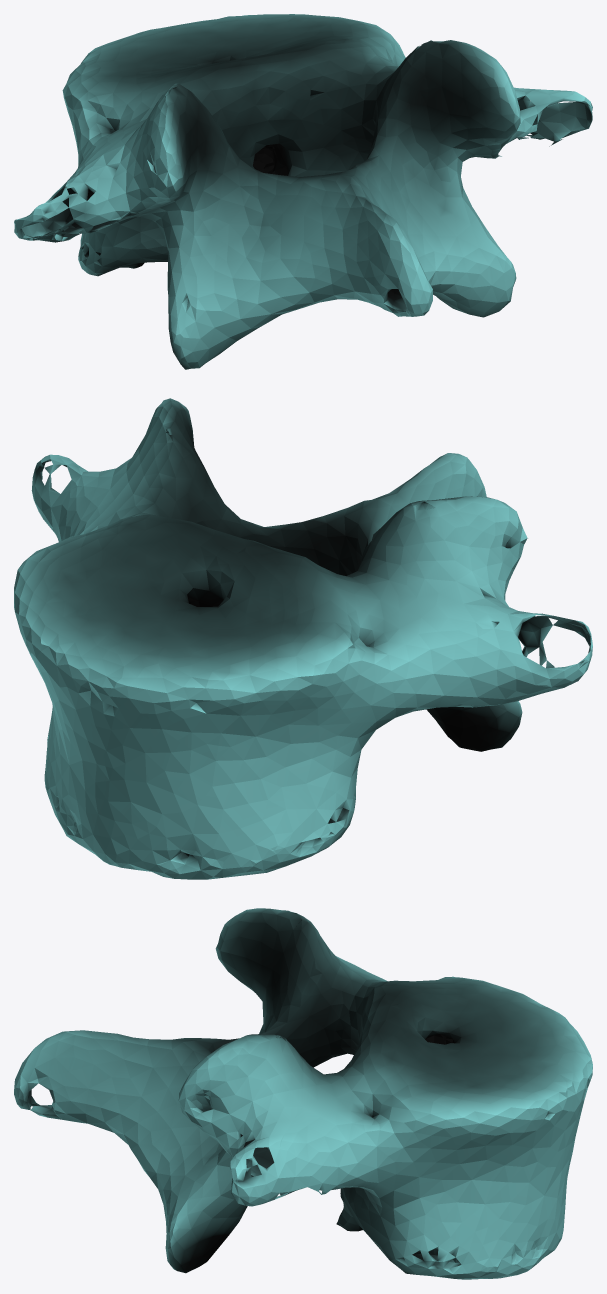
Rendered from Geometry4_lao.dae.
3 renders of one model, top to bottom at view 1: azimuth 30°, elevation 25°; view 2: azimuth 150°, elevation 25°; view 3: azimuth 270°, elevation 25°, orthographic. The views are drawn at different scales.
Parts seen in each view (by area): view 1: node; view 2: node; view 3: node.
Boxes of the visible parts, left/top/right/bottom form: node: left=14, top=14, right=592, bottom=369; node: left=14, top=398, right=592, bottom=879; node: left=14, top=908, right=592, bottom=1279.
Size of the model in its own units: 87.24 by 42.64 by 84.21.
